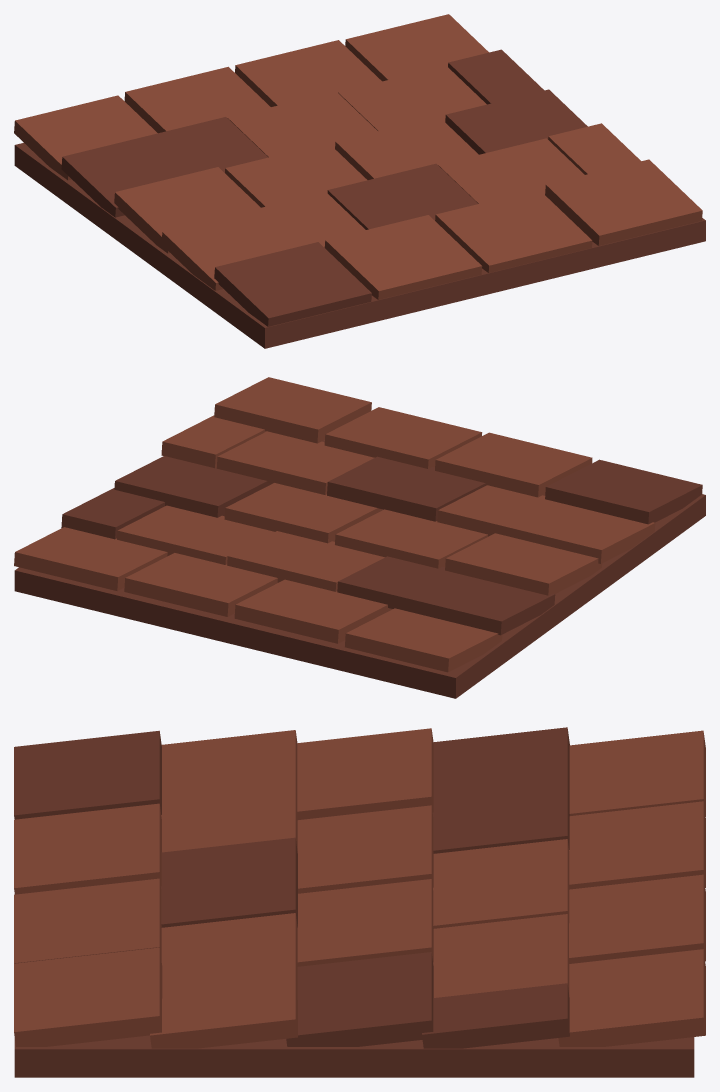
File: roof_tile.glb
3 renders of one model, top to bottom at view 1: azimuth 30°, elevation 25°; view 2: azimuth 150°, elevation 25°; view 3: azimuth 270°, elevation 25°, orthographic. The views are drawn at different scales.
Parts seen in each view (by area): view 1: Roof_Tile; view 2: Roof_Tile; view 3: Roof_Tile.
Part boxes in pixels (x1,y1,x2,y2): Roof_Tile: (14,14,705,348); Roof_Tile: (14,377,705,698); Roof_Tile: (14,727,705,1077).
Size of the model in its own units: 1.52 by 0.1443 by 1.52.
